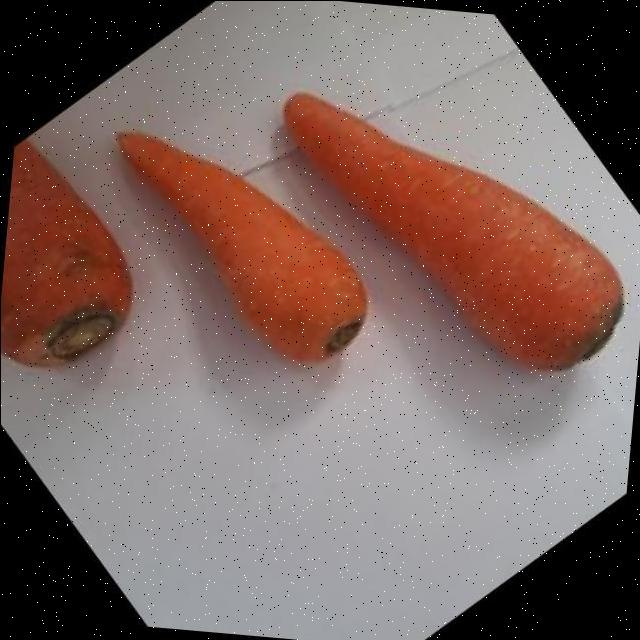carrot: (284, 94, 621, 370), (119, 133, 365, 362), (0, 141, 130, 366)
